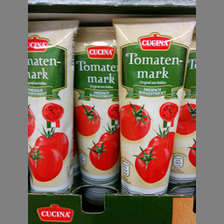tomato_sauce: (113, 17, 195, 195), (28, 20, 76, 191), (73, 26, 119, 182)
